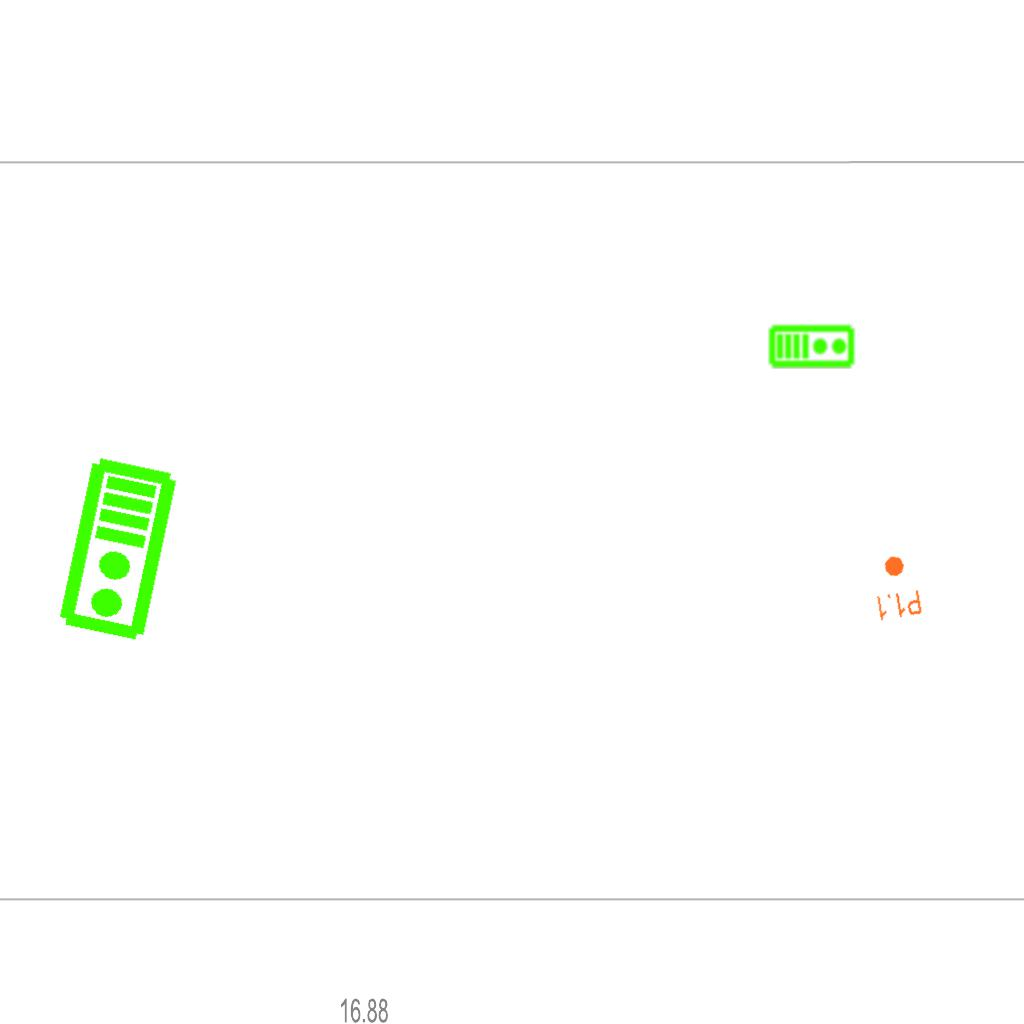Downlight_LED_Einbauleuchten_Flur: (868, 551, 924, 623)
Gegensprechanlage_mit_Video: (54, 454, 185, 646), (768, 322, 856, 369)
